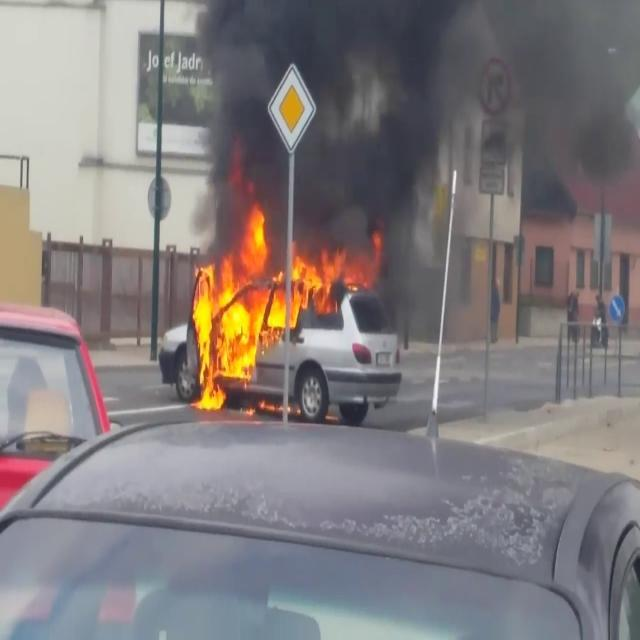Fire: (186, 206, 364, 406)
Smoke: (182, 0, 640, 246)
